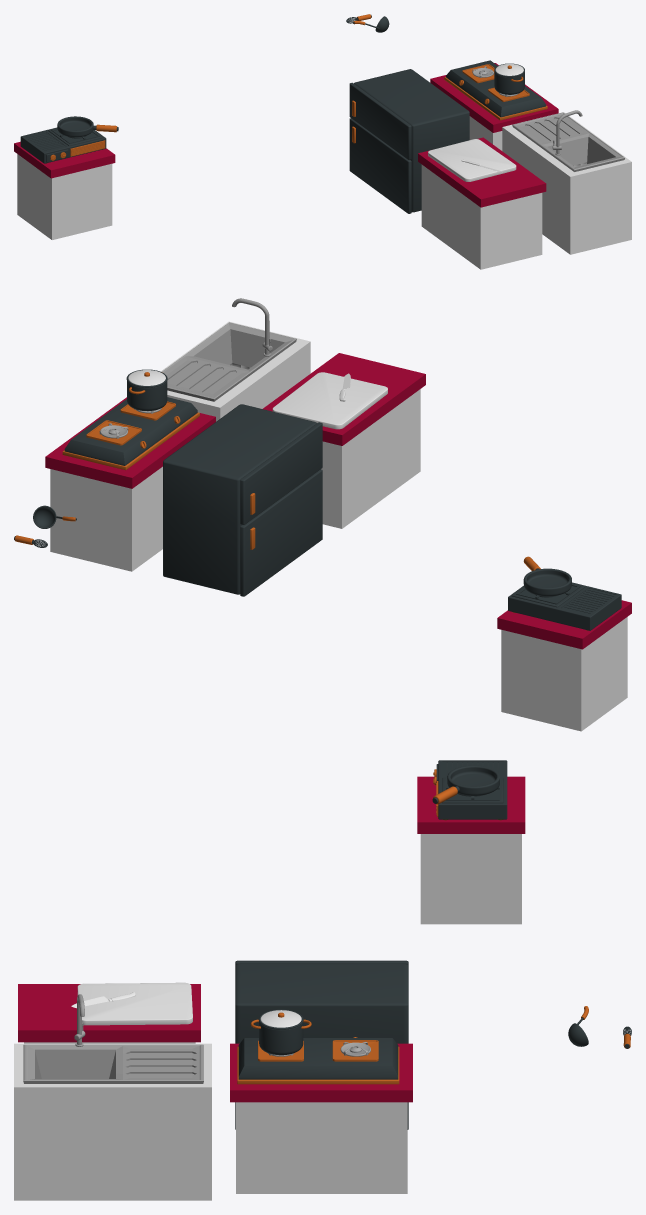
Rendered from set_pan_01_1.fbx.
3 renders of one model, top to bottom at view 1: azimuth 30°, elevation 25°; view 2: azimuth 150°, elevation 25°; view 3: azimuth 270°, elevation 25°, orthographic. The views are drawn at different scales.
Parts seen in each view (by area): view 1: fridge, Box1, 立方体, Box1.001, DishRock.003, Cube.004, cutting_board, Box1.002, gas stove, cooker, pan 1; view 2: fridge, Box1.001, Box1.002, Box1, DishRock.003, Cube.004, 立方体, cutting_board, gas stove, cooker, pan 1; view 3: 立方体, Box1.002, fridge, Box1.001, DishRock.003, Cube.004, Box1, cutting_board, gas stove, cooker, pan 1.
Part boxes in pixels (left/top/right/bottom): fridge: left=349, top=69, right=469, bottom=213; Box1: left=418, top=137, right=546, bottom=269; 立方体: left=502, top=112, right=631, bottom=254; Box1.001: left=14, top=141, right=115, bottom=239; DishRock.003: left=512, top=112, right=624, bottom=171; Cube.004: left=444, top=60, right=547, bottom=120; cutting_board: left=428, top=139, right=516, bottom=181; Box1.002: left=430, top=63, right=558, bottom=150; gas stove: left=20, top=127, right=106, bottom=163; cooker: left=494, top=63, right=524, bottom=94; pan 1: left=57, top=116, right=118, bottom=137; fridge: left=163, top=404, right=322, bottom=596; Box1.001: left=497, top=600, right=631, bottom=731; Box1.002: left=45, top=397, right=215, bottom=571; Box1: left=263, top=353, right=425, bottom=528; DishRock.003: left=162, top=322, right=296, bottom=401; Cube.004: left=62, top=397, right=199, bottom=470; 立方体: left=161, top=321, right=310, bottom=421; cutting_board: left=272, top=372, right=387, bottom=429; gas stove: left=508, top=582, right=621, bottom=630; cooker: left=126, top=369, right=167, bottom=411; pan 1: left=523, top=556, right=571, bottom=596; 立方体: left=14, top=1043, right=211, bottom=1200; Box1.002: left=230, top=1043, right=412, bottom=1193; fridge: left=235, top=960, right=408, bottom=1129; Box1.001: left=417, top=776, right=525, bottom=924; DishRock.003: left=23, top=1044, right=203, bottom=1083; Cube.004: left=237, top=1037, right=399, bottom=1084; Box1: left=18, top=984, right=200, bottom=1043; cutting_board: left=77, top=982, right=192, bottom=1025; gas stove: left=433, top=760, right=507, bottom=819; cooker: left=250, top=1009, right=311, bottom=1055; pan 1: left=432, top=765, right=499, bottom=804.
Bounding box in the file's own units: 5436 × 1410 × 4517.
